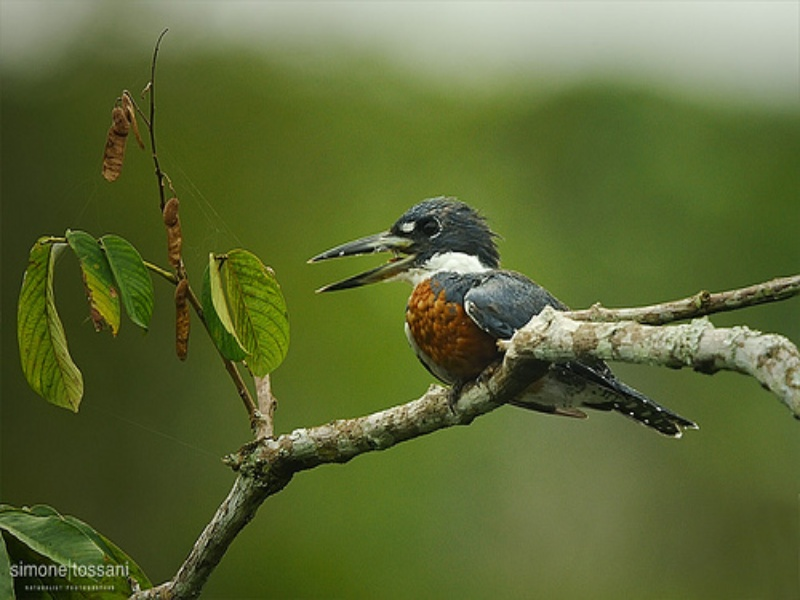kingfisher: (304, 188, 702, 449)
